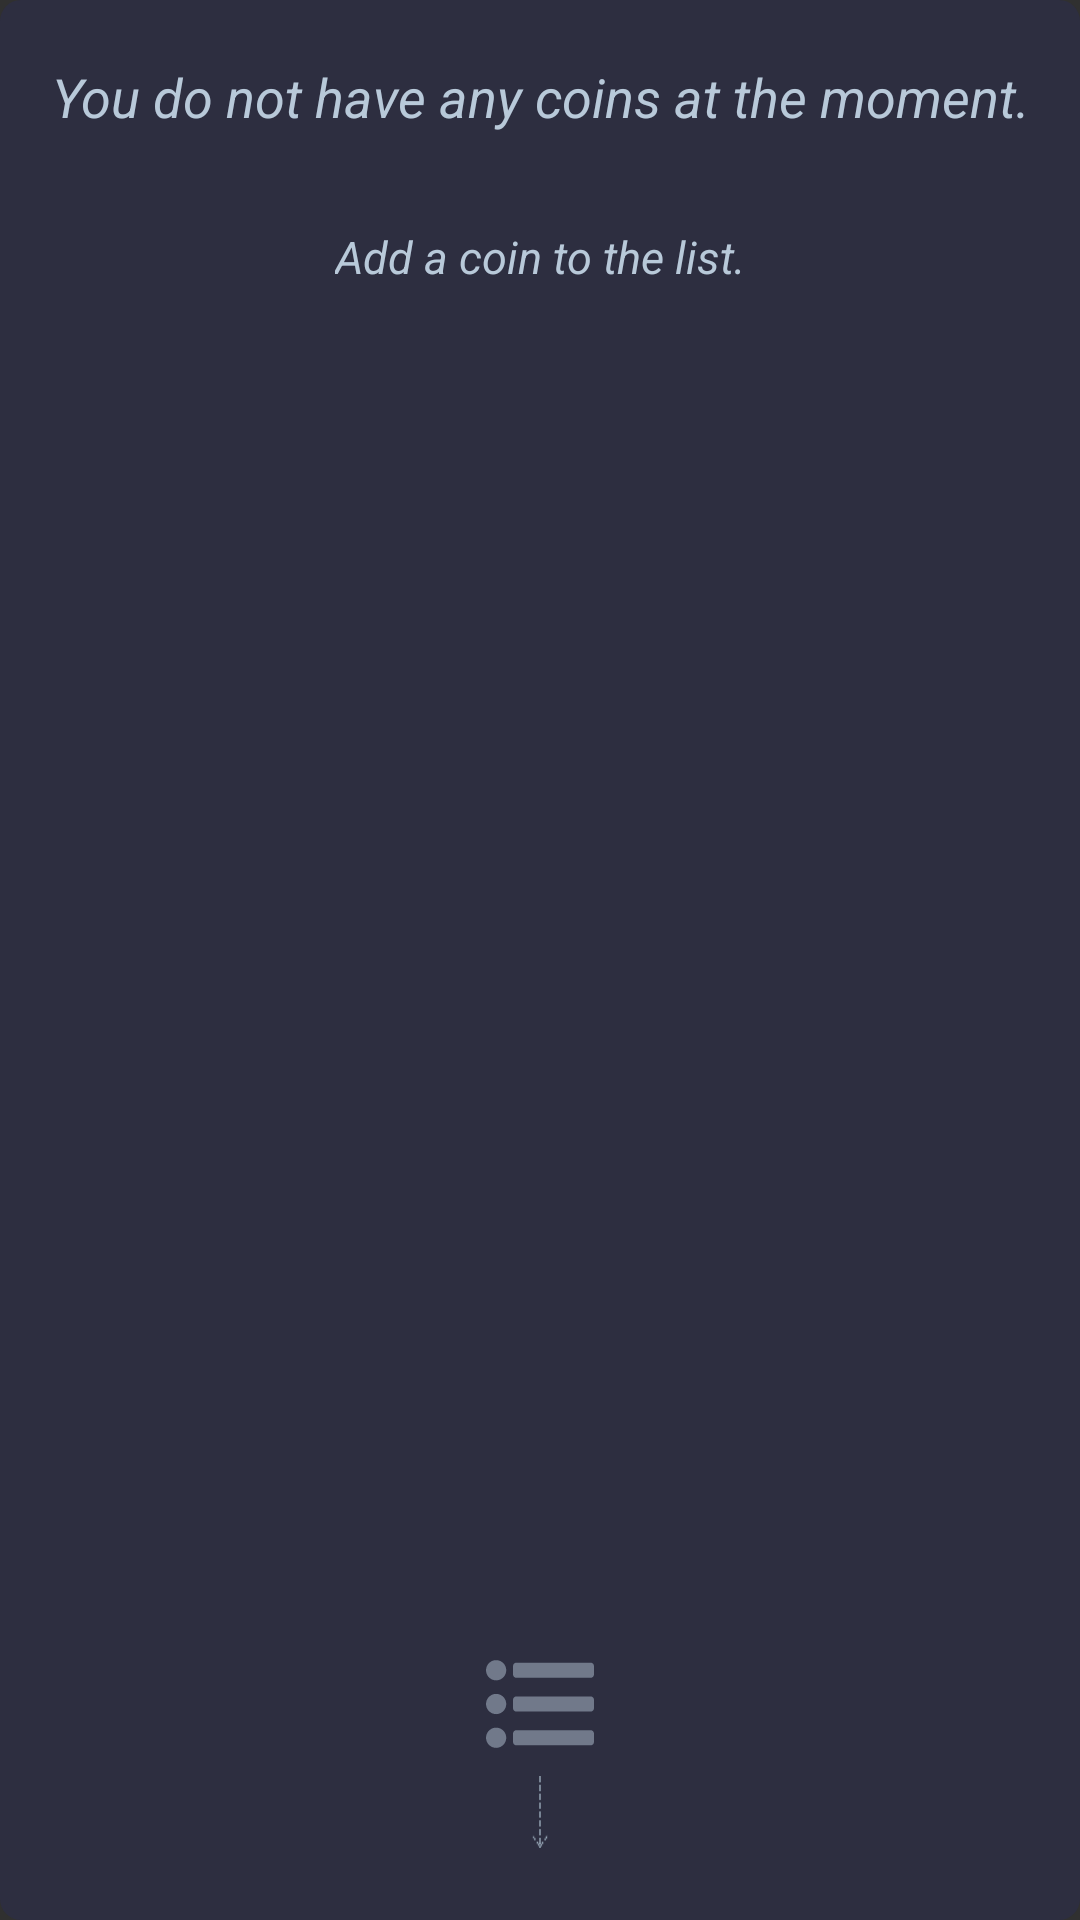

Where to tap for icons on this 1080x1920 app screen, as (x=x, y=y):
list ul: (x=540, y=1704)
